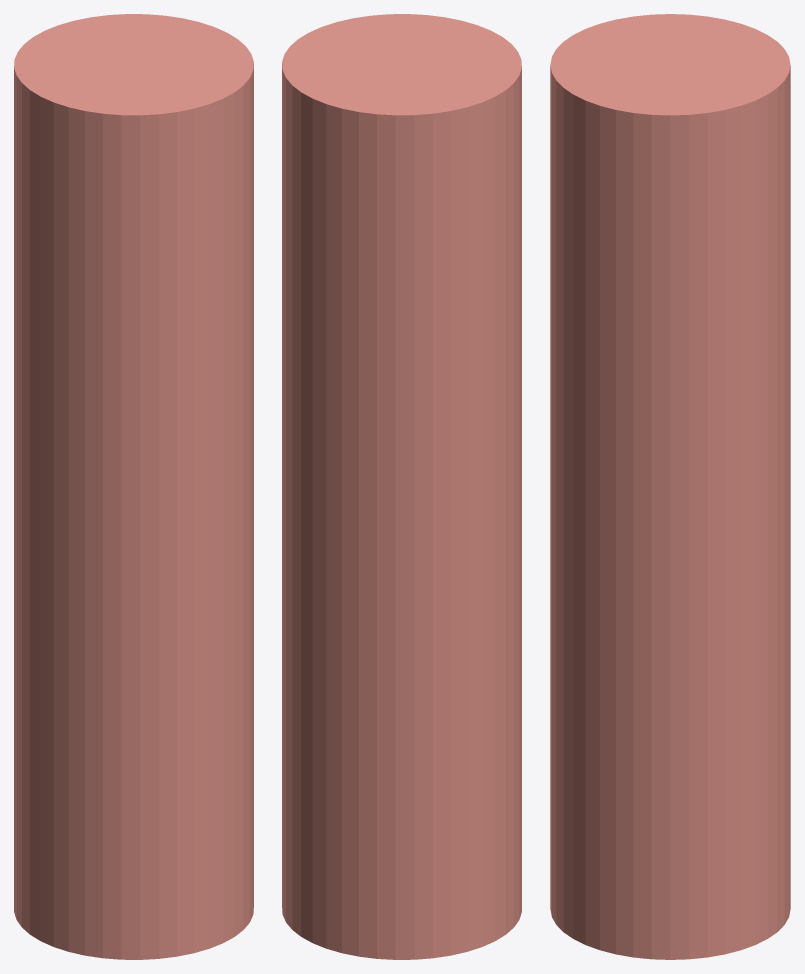
The model's file is gen_aerosol-can_04.glb.
3 renders of one model, left to right at view 1: azimuth 30°, elevation 25°; view 2: azimuth 150°, elevation 25°; view 3: azimuth 270°, elevation 25°, orthographic.
Parts seen in each view (by area): view 1: z-up-to-y-up; view 2: z-up-to-y-up; view 3: z-up-to-y-up.
Part boxes in pixels (x1=…): z-up-to-y-up: x1=14, y1=14, x2=253, y2=959; z-up-to-y-up: x1=282, y1=14, x2=521, y2=959; z-up-to-y-up: x1=550, y1=14, x2=790, y2=959.
Size of the model in its own units: 0.046 by 0.1783 by 0.046.
